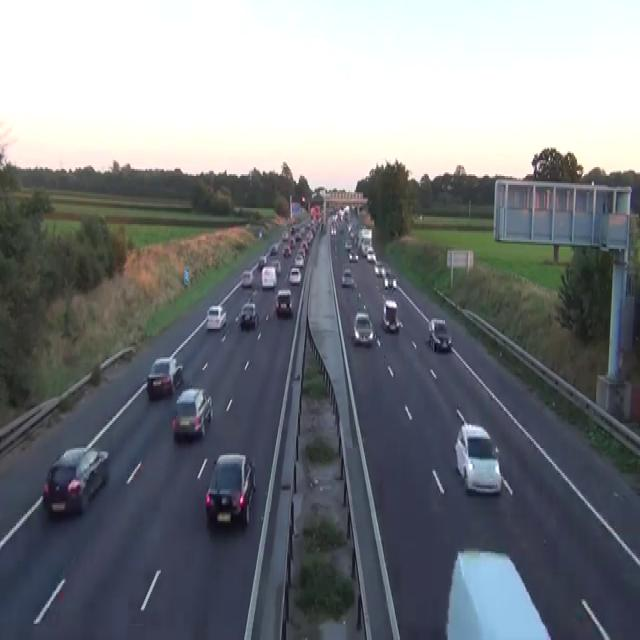Car: (445, 548, 552, 638), (42, 444, 109, 516), (205, 452, 256, 526), (454, 422, 502, 494), (171, 386, 213, 439), (146, 356, 183, 398), (428, 316, 452, 352), (352, 309, 375, 345), (381, 298, 402, 332), (236, 302, 259, 329), (206, 304, 226, 331), (275, 288, 292, 316), (384, 298, 397, 324), (341, 267, 354, 286), (288, 266, 301, 284), (383, 272, 396, 290), (268, 258, 281, 276), (241, 268, 253, 286), (374, 260, 384, 276), (366, 247, 376, 261), (294, 252, 304, 266), (258, 254, 266, 270), (348, 251, 358, 263), (282, 245, 291, 258), (281, 229, 289, 242), (268, 244, 278, 254), (289, 236, 295, 249), (294, 231, 301, 242), (344, 240, 352, 249), (330, 224, 336, 235), (446, 183, 454, 190), (392, 277, 396, 290), (301, 196, 306, 206), (258, 228, 262, 238), (301, 195, 305, 202)
Truck: (261, 265, 276, 290)
